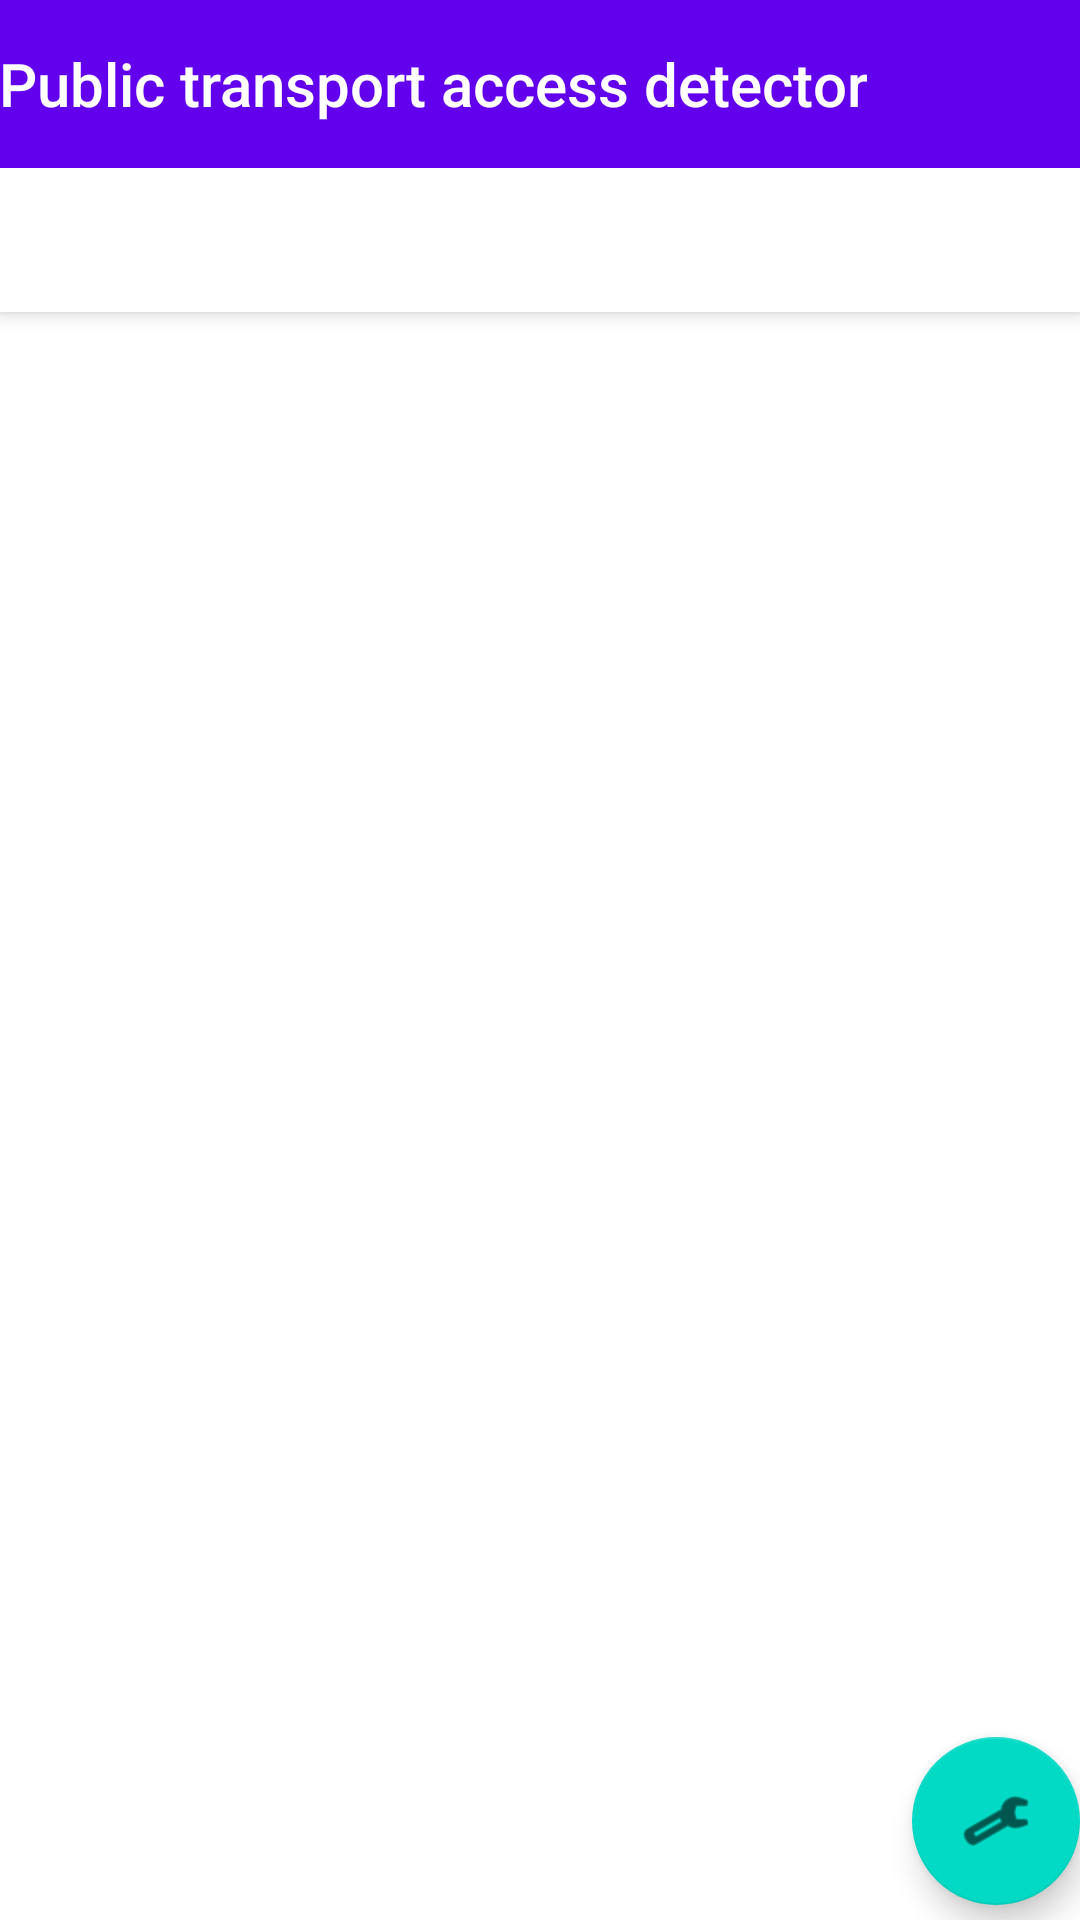

Icons on this 1080x1920 Android screen, each with its box as region(x1, y1, x2, y2):
manage: region(912, 1737, 1080, 1905)
